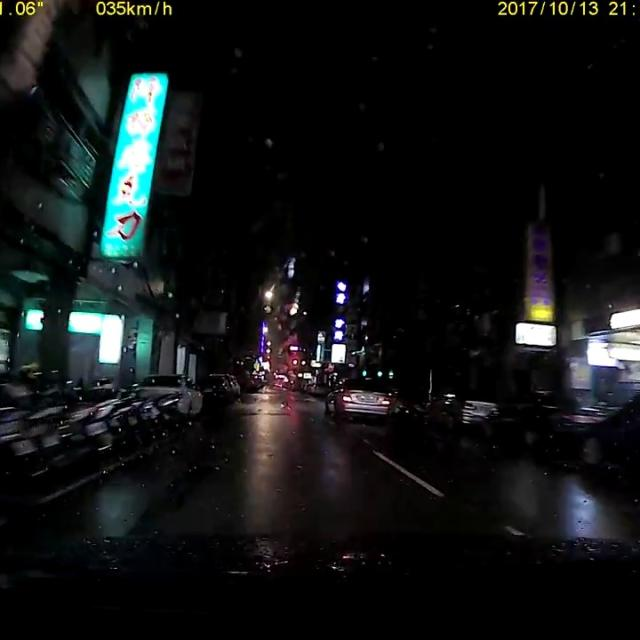Car: (321, 370, 399, 421), (137, 370, 202, 415), (204, 370, 239, 400)
